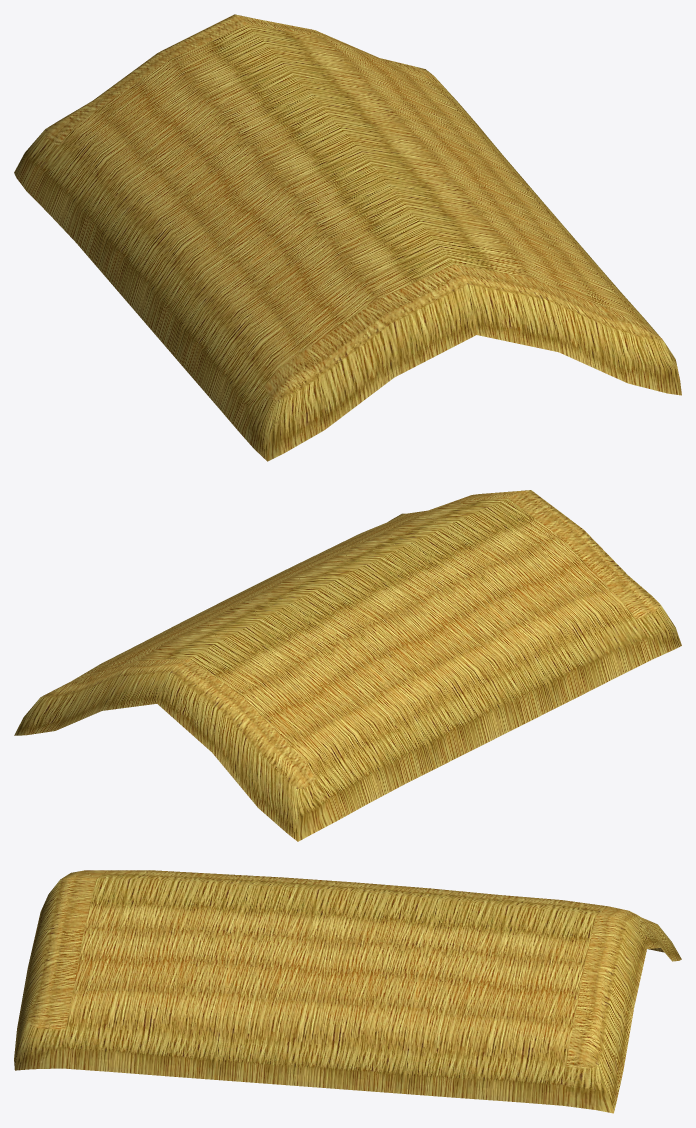
File: HTOWN01_CHICKENCOOPROOF.fbx
3 views of the same model, one above another, from view 1: azimuth 30°, elevation 25°; view 2: azimuth 150°, elevation 25°; view 3: azimuth 270°, elevation 25° (orthographic). The views are drawn at different scales.
Parts seen in each view (by area): view 1: HTOWN01_CHICKENCOOPROOF; view 2: HTOWN01_CHICKENCOOPROOF; view 3: HTOWN01_CHICKENCOOPROOF.
Part boxes in pixels (left/top/right/bottom): HTOWN01_CHICKENCOOPROOF: left=14, top=14, right=681, bottom=461; HTOWN01_CHICKENCOOPROOF: left=14, top=490, right=681, bottom=841; HTOWN01_CHICKENCOOPROOF: left=14, top=870, right=681, bottom=1113.
Bounding box in the file's own units: 86256 × 24563 × 120117.
4 materials, 4 textured.
